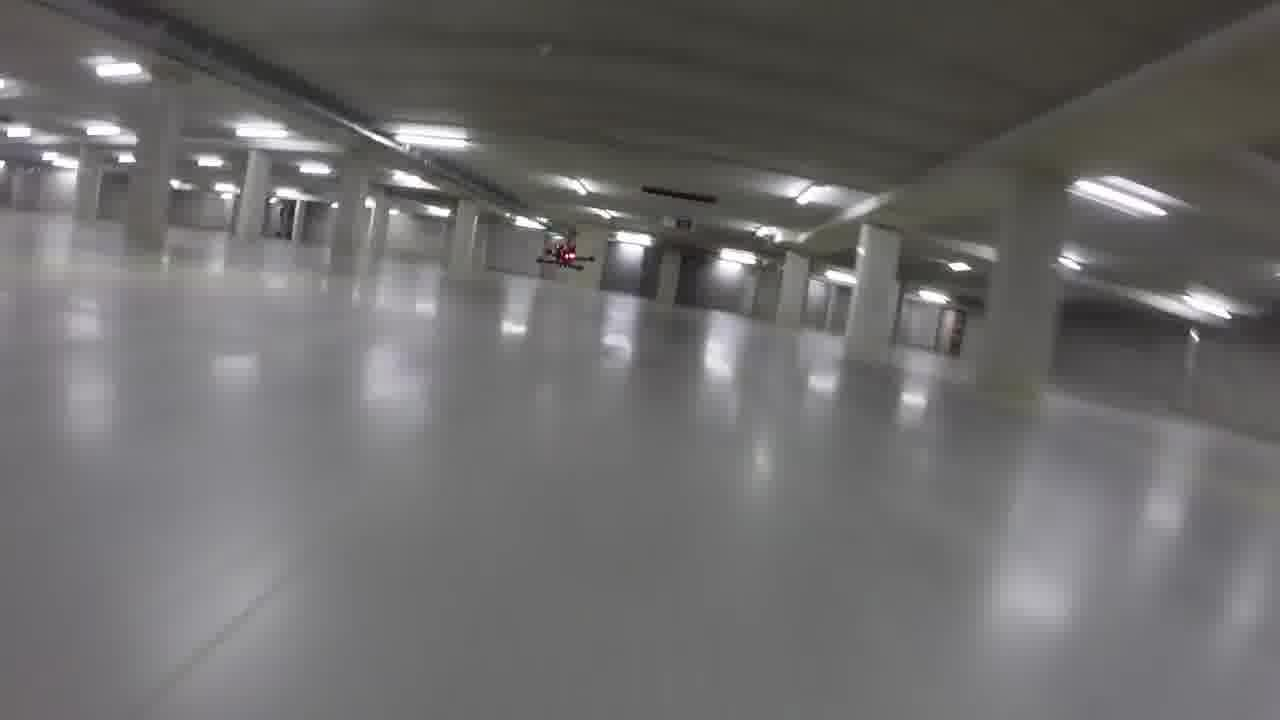drone: (521, 230, 604, 279)
